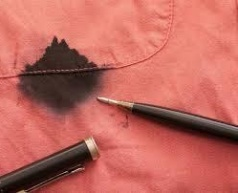ink: (23, 41, 97, 105)
